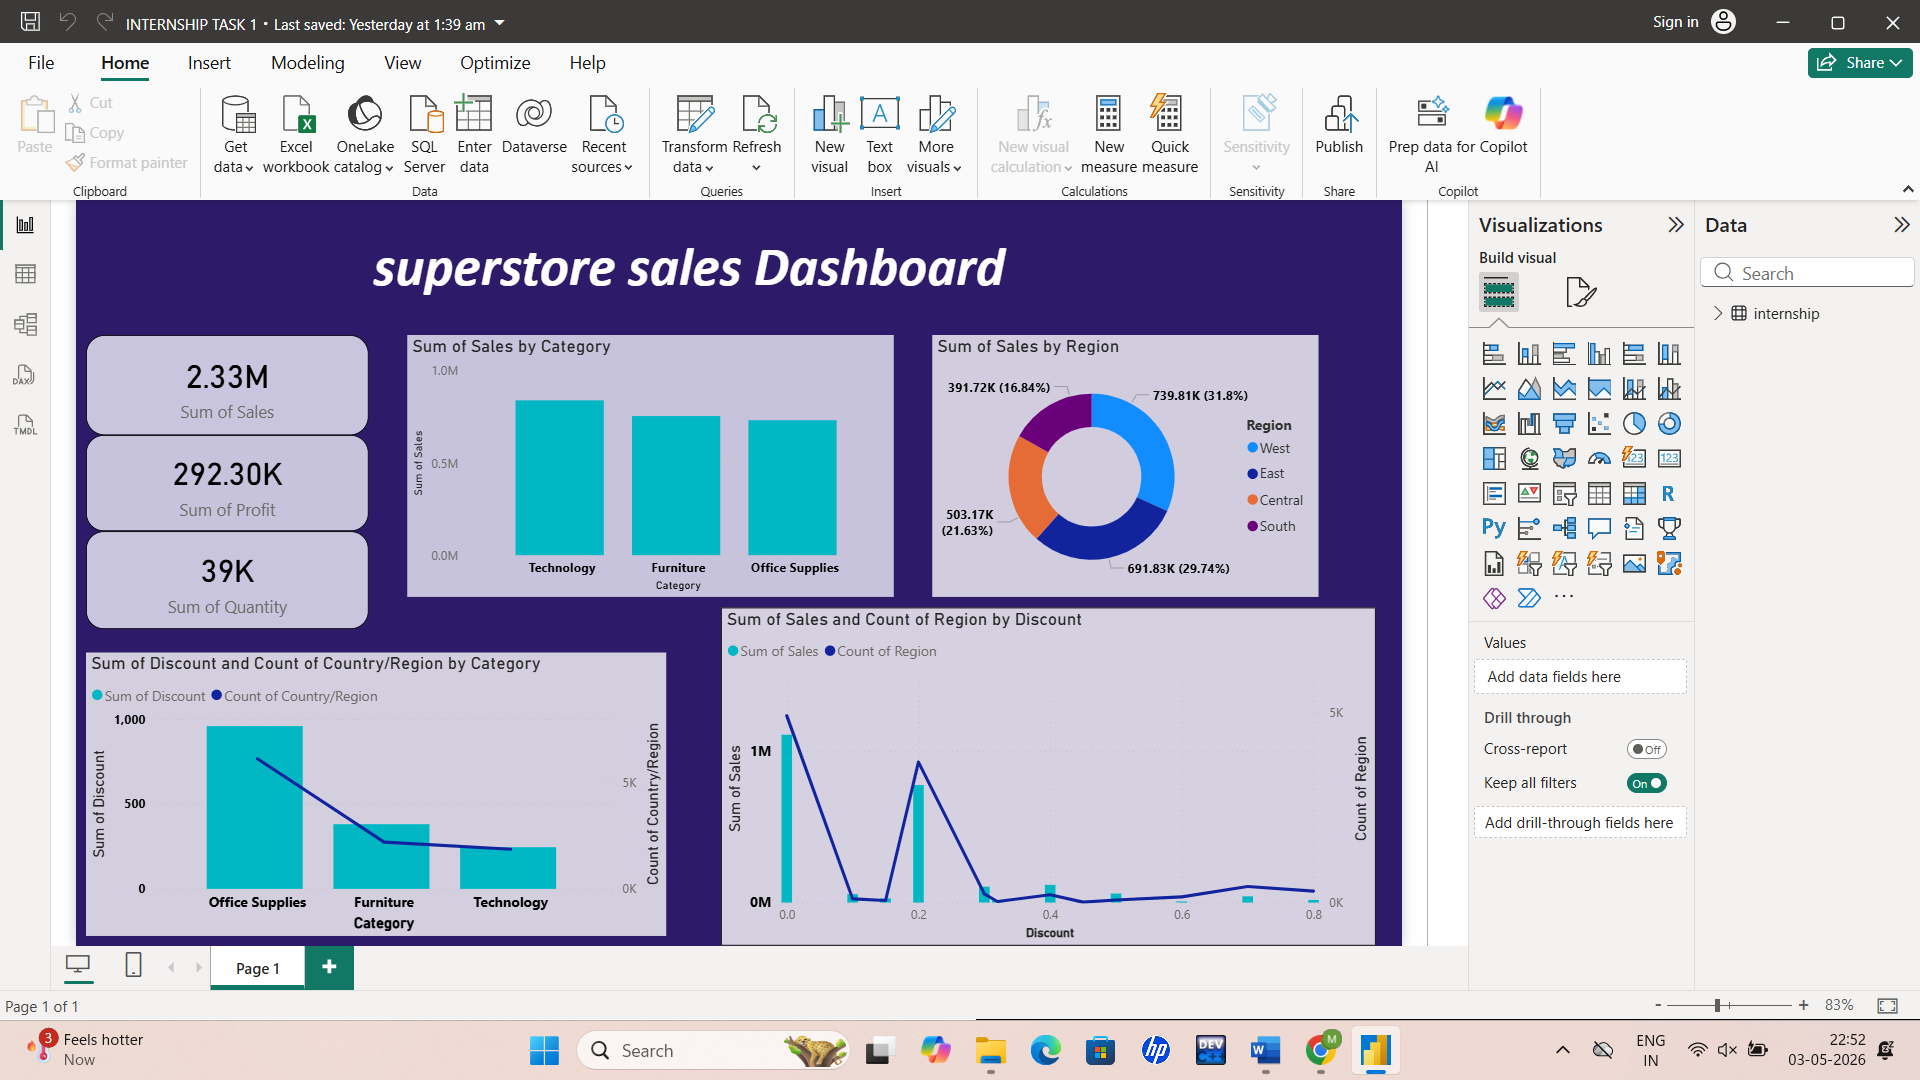

What the dashboard file says about the page in this screenshot:
{"tool":"powerbi","page":{"name":"Page 1","canvas":[1280,720],"ordinal":0},"visuals":[{"type":"card","fields":{"Values":["Sum(internship.Sales)"]},"box":[9.7,130.3,272.7,96.5],"z":0},{"type":"card","fields":{"Values":["Sum(internship.Profit)"]},"box":[9.7,226.8,272.7,92.9],"z":1000},{"type":"card","fields":{"Values":["Sum(internship.Quantity)"]},"box":[9.7,319.7,272.7,94.1],"z":2000},{"type":"lineStackedColumnComboChart","fields":{"Category":["internship.Category"],"Y":["Sum(internship.Sales)"]},"box":[319.7,130.4,469.3,252.5],"z":3000},{"type":"lineStackedColumnComboChart","fields":{"Category":["internship.Category"],"Y":["Sum(internship.Discount)"],"Y2":["CountNonNull(internship.Country/Region)"]},"box":[9.7,436.7,559.8,273.9],"z":4000},{"type":"donutChart","fields":{"Category":["internship.Region"],"Y":["Sum(internship.Sales)"]},"box":[826.6,130.8,373,253.1],"z":5000},{"type":"lineStackedColumnComboChart","fields":{"Category":["internship.Discount"],"Y":["Sum(internship.Sales)"],"Y2":["CountNonNull(internship.Region)"]},"box":[622.4,393.8,632.2,326.5],"z":6000},{"type":"textbox","box":[222.6,26.9,739.8,79.5],"z":7000}]}

Visuals, with their boxes on the page's 1280x720 design canvas (x1, y1, x2, y2). These are canvas units, not pixel positions in the 1920x1080 screenshot, which may show the page scaled, cropped or inside an application window:
card - Sum(internship.Sales): bbox(10, 130, 282, 227)
card - Sum(internship.Profit): bbox(10, 227, 282, 320)
card - Sum(internship.Quantity): bbox(10, 320, 282, 414)
lineStackedColumnComboChart - internship.Category x Sum(internship.Sales): bbox(320, 130, 789, 383)
lineStackedColumnComboChart - internship.Category x Sum(internship.Discount): bbox(10, 437, 570, 711)
donutChart - internship.Region x Sum(internship.Sales): bbox(827, 131, 1200, 384)
lineStackedColumnComboChart - internship.Discount x Sum(internship.Sales): bbox(622, 394, 1255, 720)
textbox: bbox(223, 27, 962, 106)
